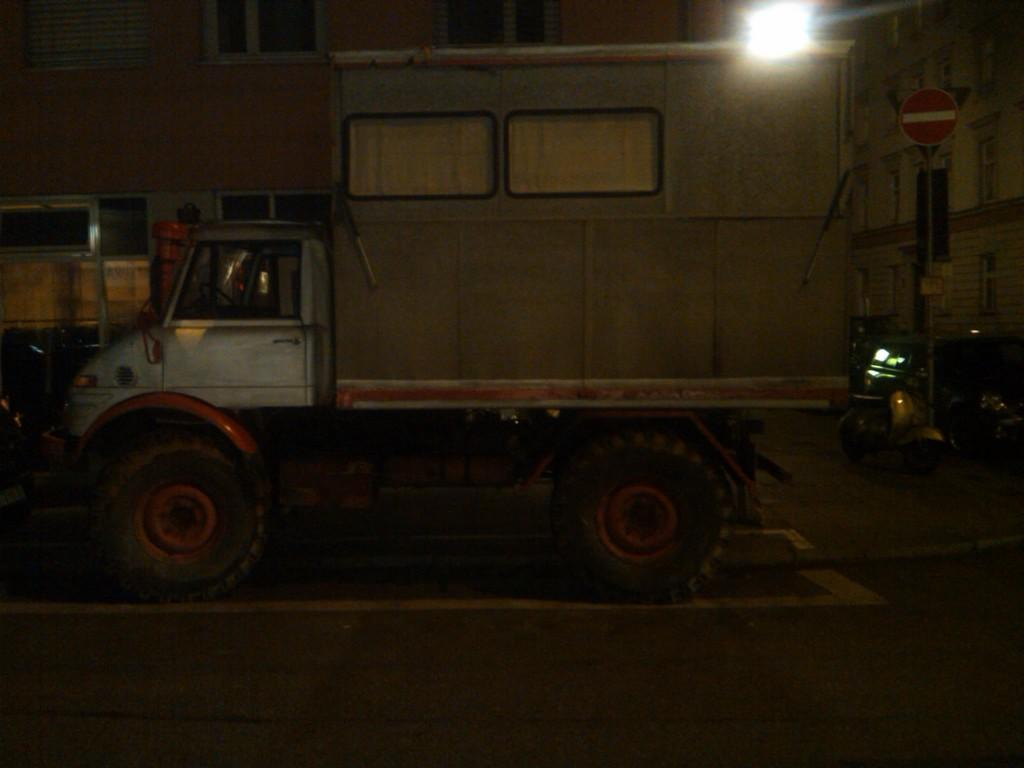Truck: (49, 76, 872, 634)
